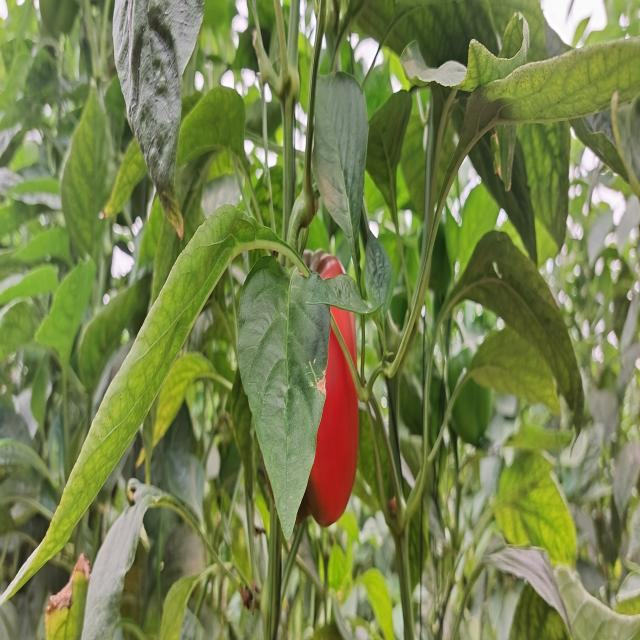Red-Ready-to-Harvest: (241, 233, 385, 539)
